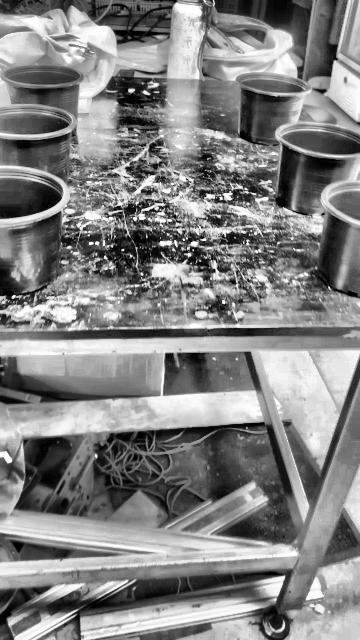pot: (0, 167, 66, 296), (277, 124, 360, 217), (0, 104, 76, 182), (237, 74, 312, 143), (318, 181, 359, 296), (1, 65, 83, 119), (104, 481, 139, 512)
